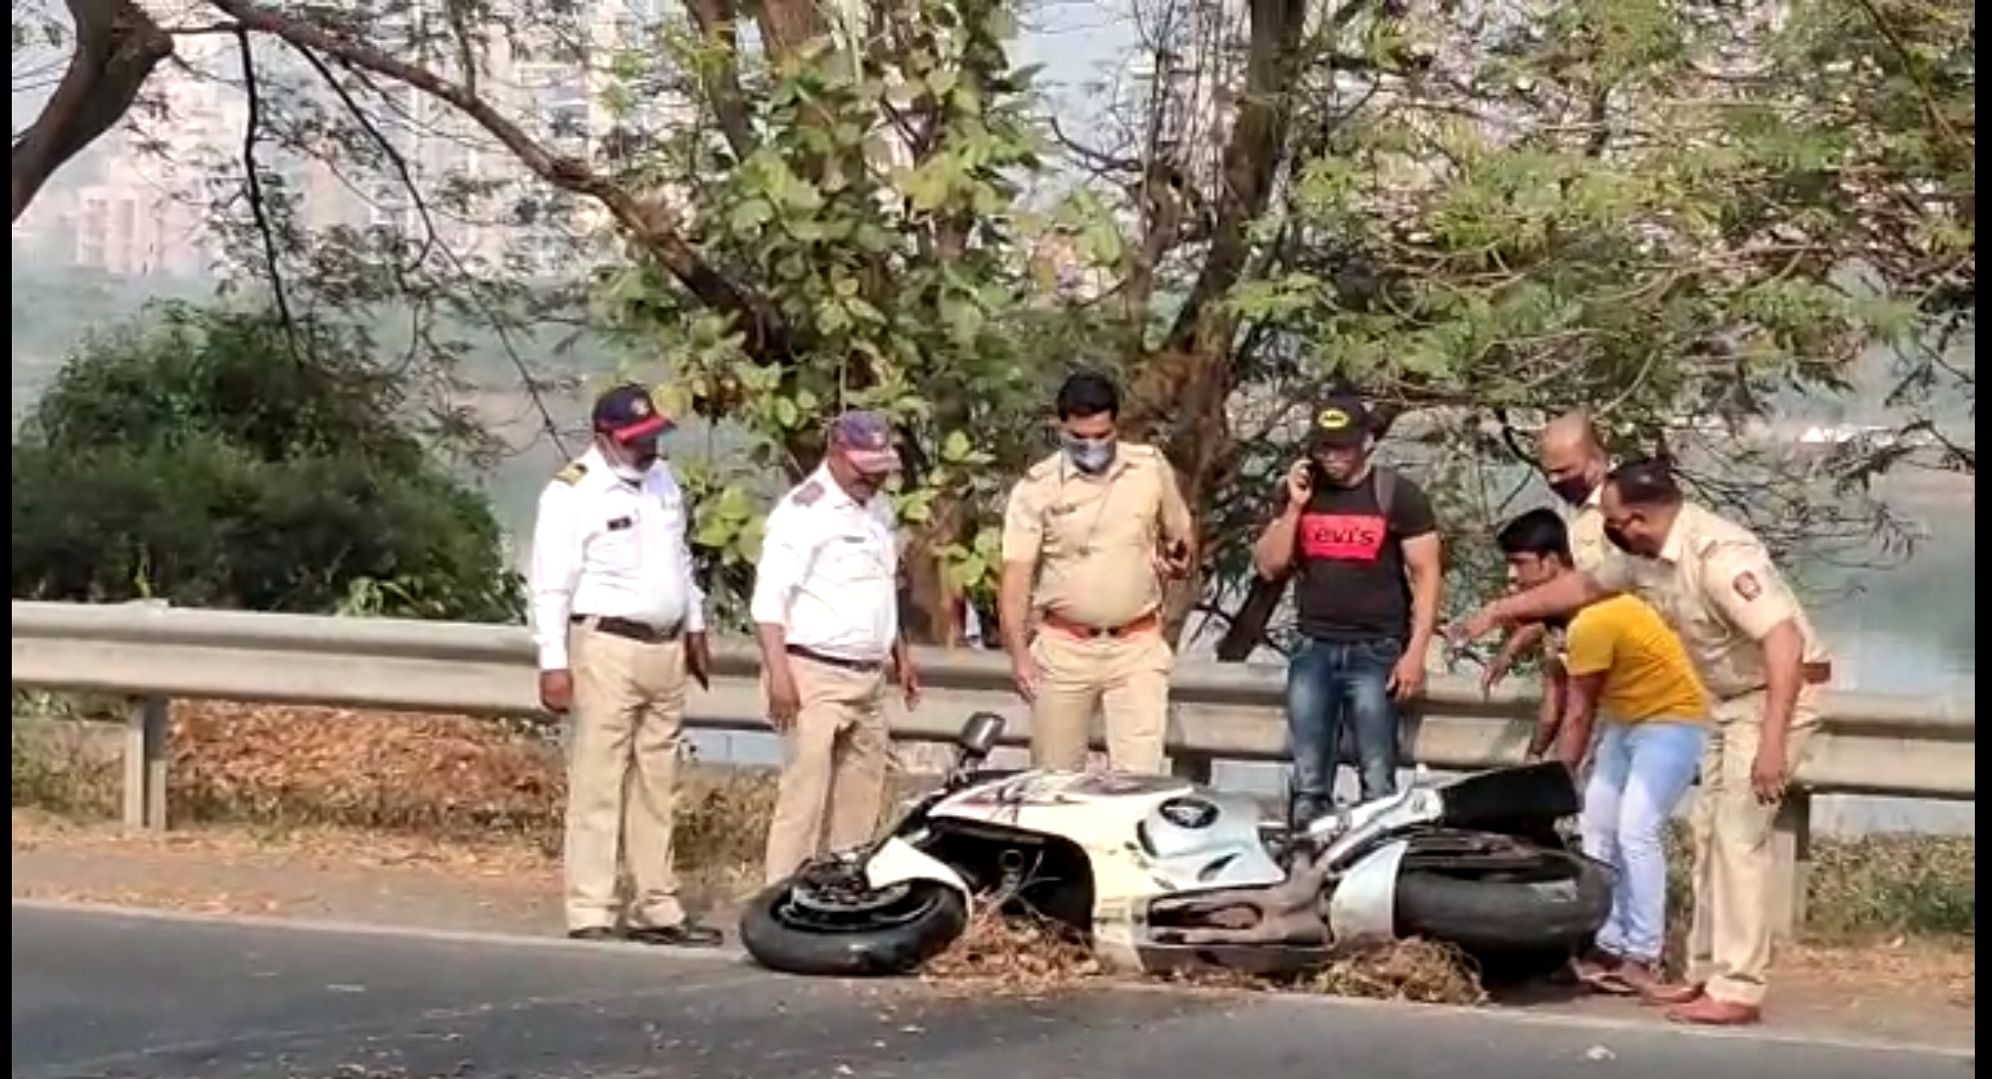accident: (417, 714, 1664, 1067)
